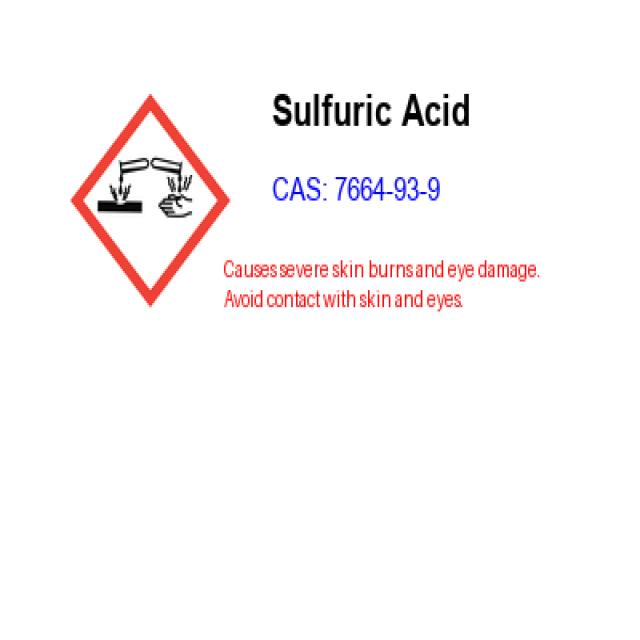cas number: (266, 168, 453, 212)
chemical name: (270, 77, 478, 143)
corrosive: (69, 81, 225, 316)
warning text: (223, 256, 535, 325)
